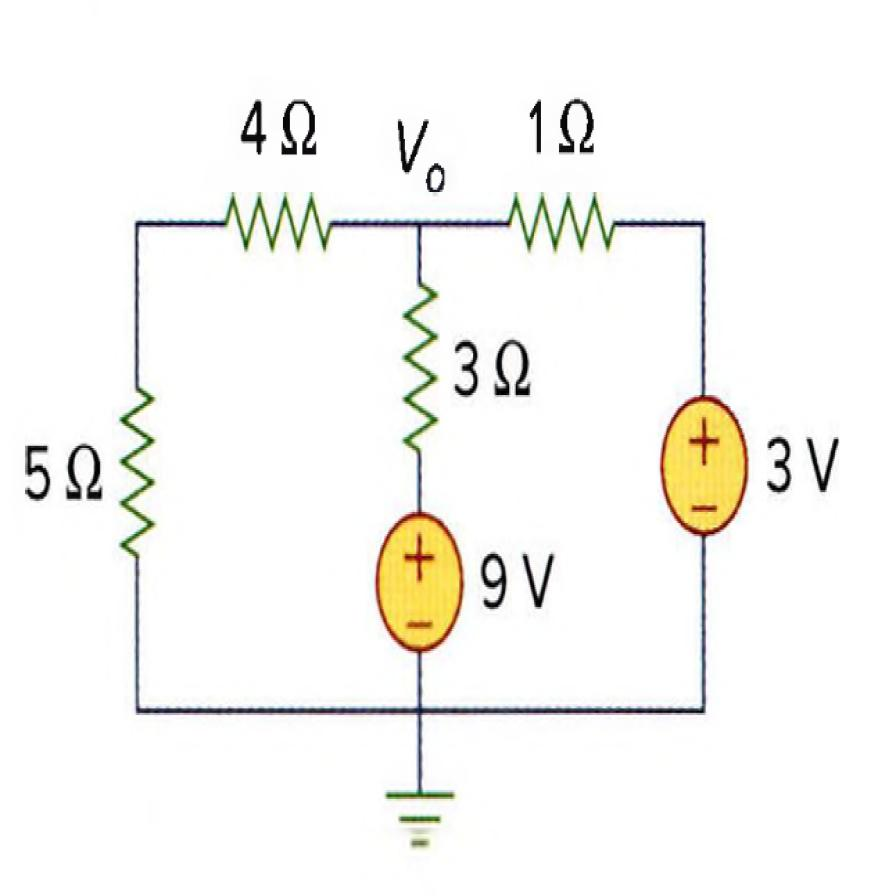R1: (486, 169, 629, 284), (202, 176, 346, 274)
R2: (380, 268, 452, 470), (106, 362, 170, 586)
V1: (657, 372, 757, 564), (365, 496, 472, 663)
